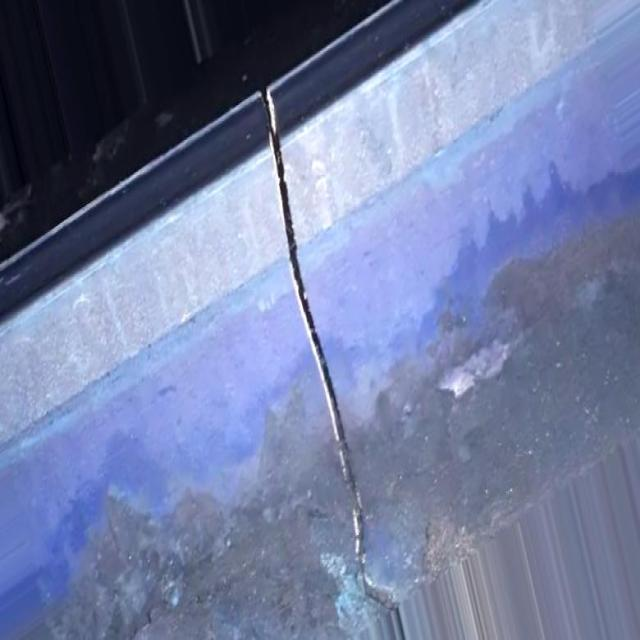crack: (222, 7, 430, 640)
